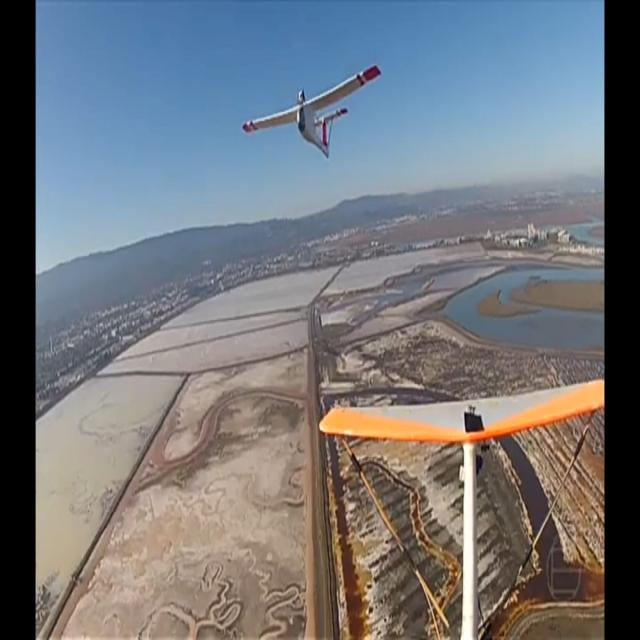iha: (242, 32, 383, 65)
